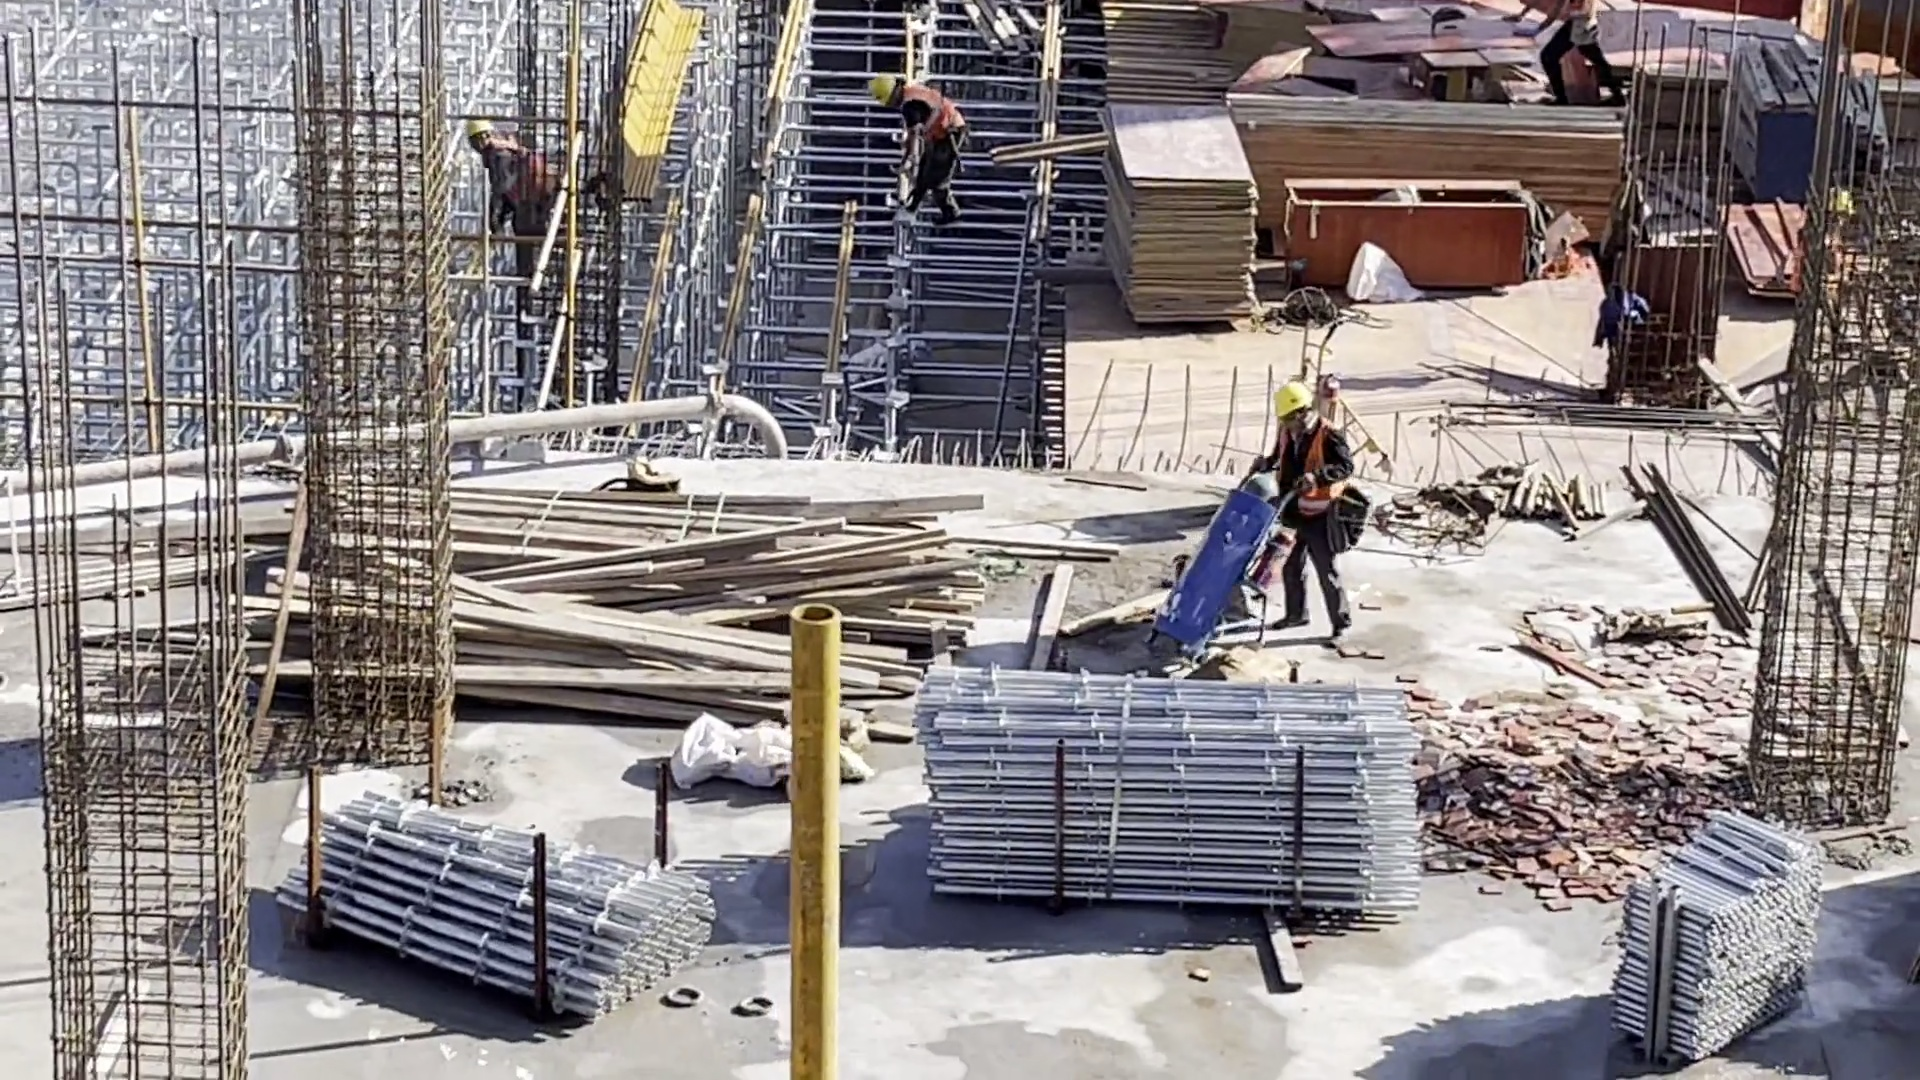board: (1087, 93, 1253, 313), (1096, 1, 1219, 113), (1720, 192, 1808, 307)
cutter: (1301, 1, 1524, 94)
helmet: (1265, 378, 1321, 421), (867, 77, 897, 105)
person: (1260, 369, 1355, 643), (862, 65, 966, 235), (460, 112, 576, 257), (1512, 1, 1630, 102)
rebar: (1612, 455, 1753, 633), (1447, 391, 1792, 445)
scaffold: (906, 672, 1425, 919), (285, 792, 718, 1024), (1615, 809, 1828, 1070)
vest: (1269, 414, 1343, 514), (897, 83, 961, 149), (1565, 1, 1606, 30)
wood: (409, 481, 979, 730), (1212, 108, 1608, 202)
